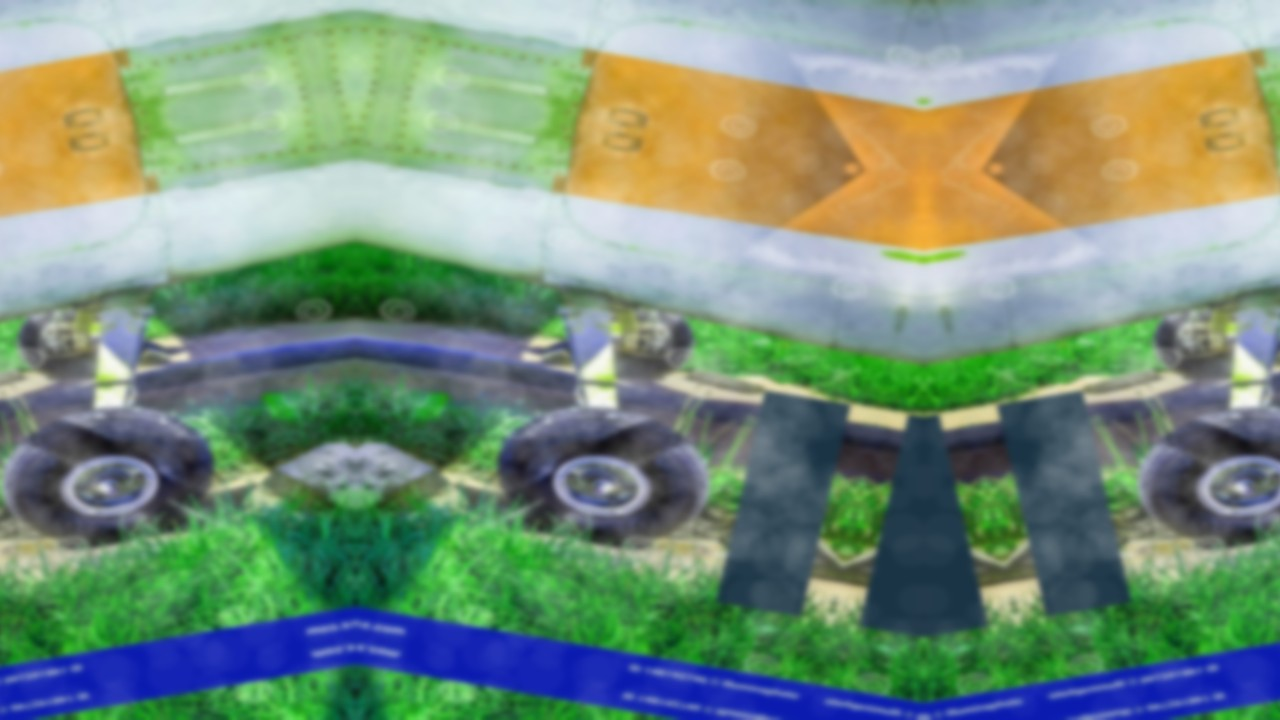chock: (712, 494, 855, 589), (993, 494, 1136, 589), (355, 426, 481, 527), (230, 426, 355, 527), (838, 516, 924, 610), (924, 516, 1010, 610), (129, 332, 172, 370), (539, 332, 582, 370), (1266, 332, 1280, 370)
wheel: (482, 392, 721, 556), (0, 392, 229, 556), (1127, 392, 1280, 556), (12, 304, 105, 385), (606, 304, 699, 385), (1149, 304, 1242, 385)
